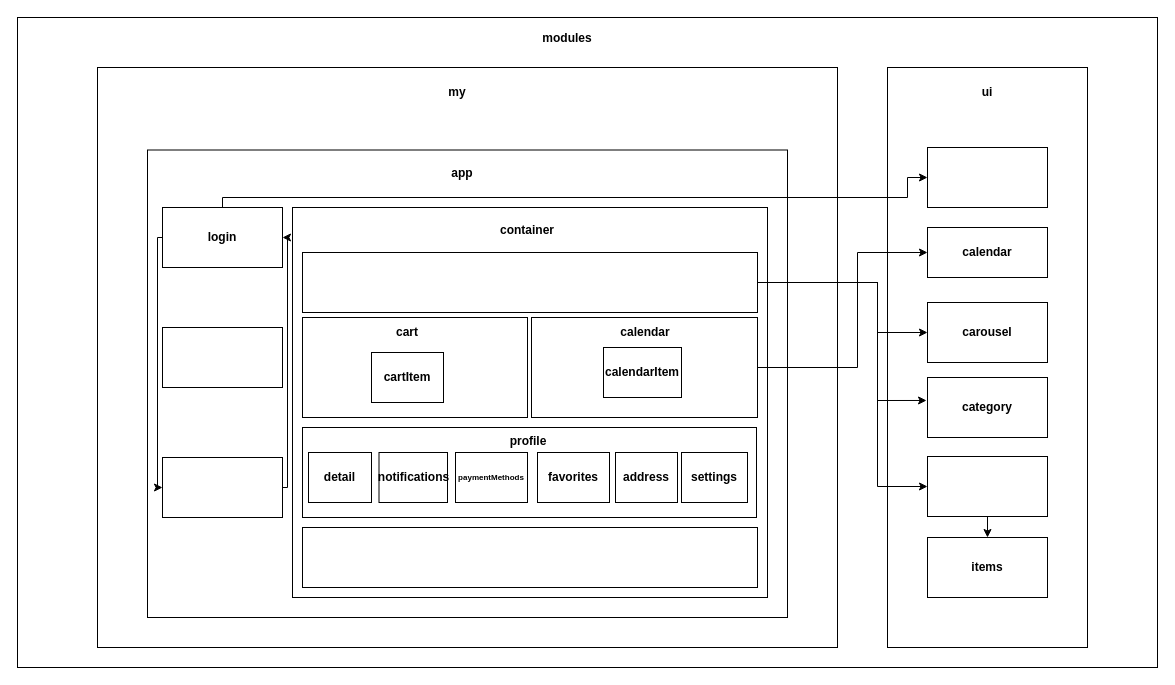
The diagram is 1175 pixels wide and 685 high, and some of its shapes have lost their labels. The shapes that lost their labels are listed below. From the top down, each one's box as (x1, y1, x2, y2) in pixels, then its label:
(926, 146, 1048, 208): alert
(302, 252, 758, 312): home
(162, 326, 282, 388): register
(162, 456, 282, 518): loading
(926, 456, 1048, 516): item
(302, 526, 758, 588): navbar
